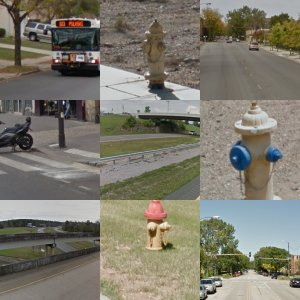公車: (201, 130, 257, 192), (219, 29, 283, 75), (14, 251, 67, 285)
棕梠樹: (101, 33, 199, 99)
汽車: (100, 143, 137, 201), (162, 120, 200, 157), (261, 256, 299, 287)
